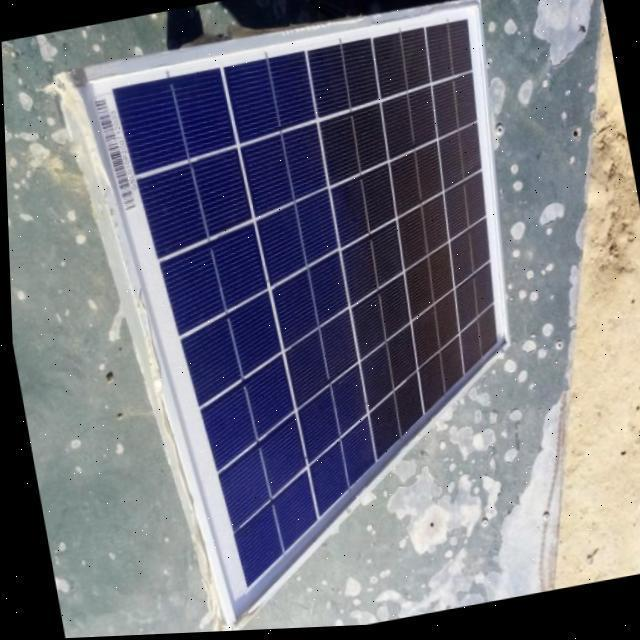Normal Solar Panel: (74, 0, 576, 636)
